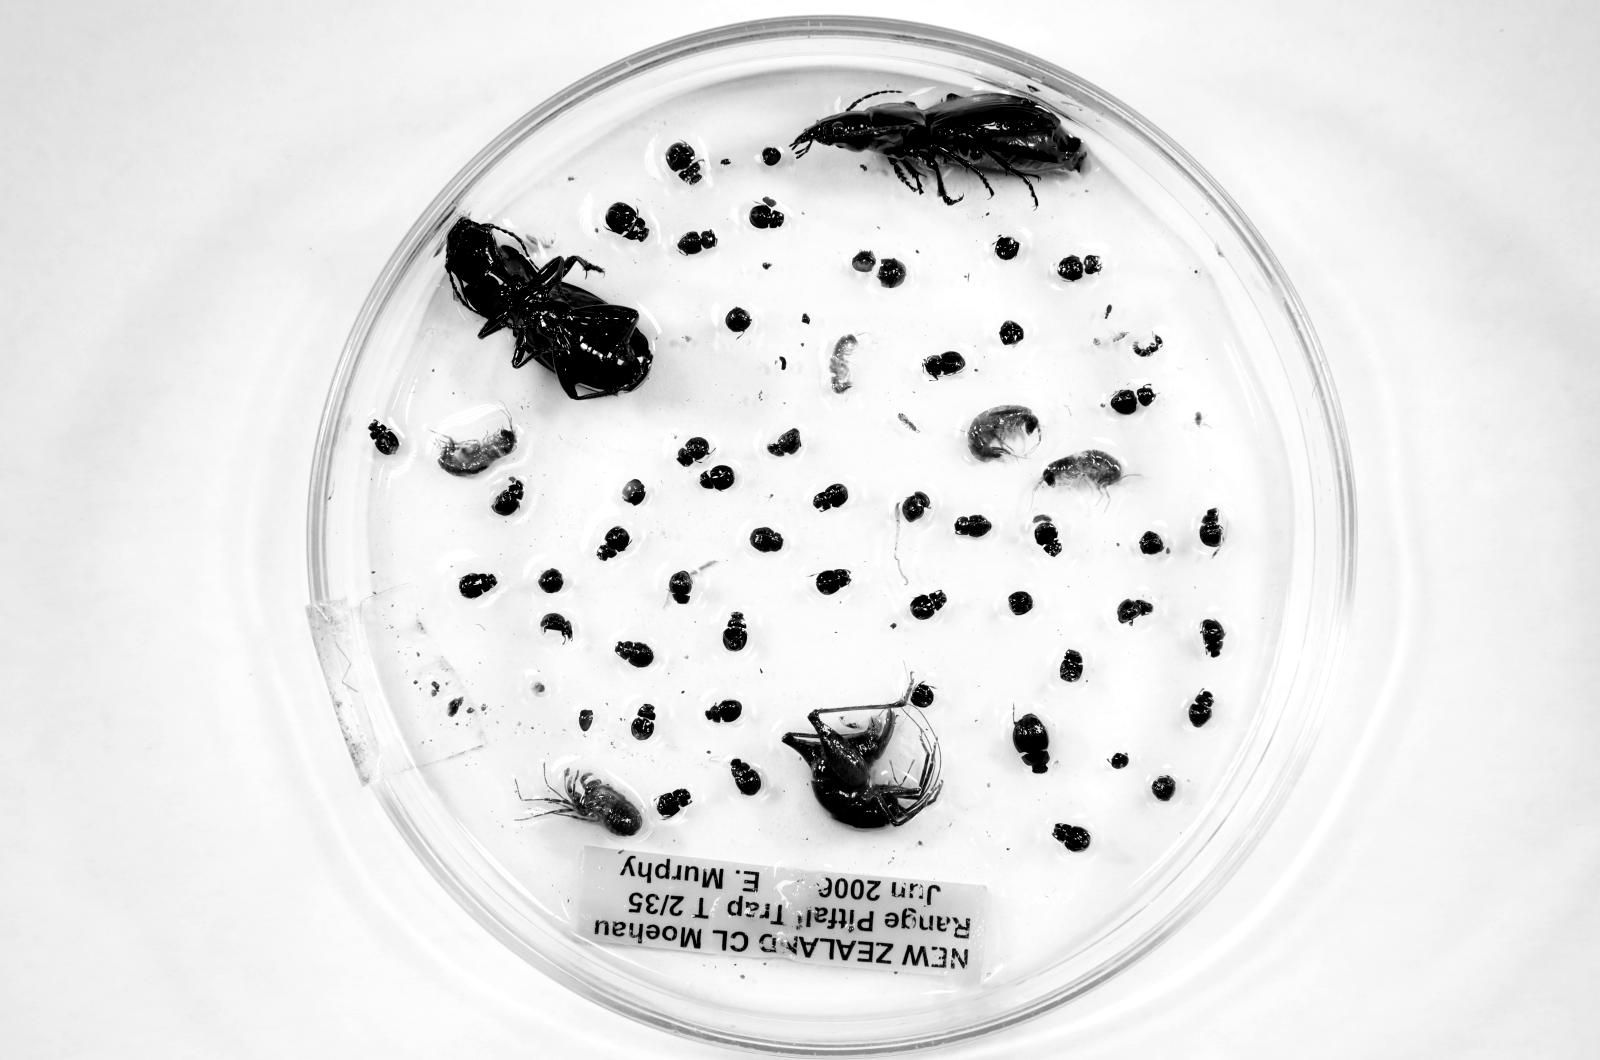amphipoda: (969, 406, 1041, 461), (1041, 450, 1123, 497), (439, 428, 517, 476), (829, 334, 857, 394)
carabidae: (445, 218, 653, 400), (792, 92, 1087, 205)
coleoptera: (1012, 713, 1051, 774), (604, 202, 650, 241), (665, 141, 704, 186), (1110, 384, 1155, 415), (596, 526, 631, 561), (492, 478, 524, 516), (1057, 254, 1101, 282), (1034, 516, 1062, 557), (730, 758, 762, 795), (909, 589, 947, 620), (922, 351, 965, 379), (368, 420, 400, 455), (1052, 822, 1090, 852), (656, 788, 692, 819), (615, 640, 653, 668), (676, 230, 717, 256), (1199, 508, 1224, 549), (899, 491, 931, 523), (459, 573, 498, 599), (1187, 689, 1213, 728), (678, 437, 712, 466), (749, 201, 785, 228), (812, 484, 849, 511), (767, 428, 802, 457), (539, 613, 574, 641), (723, 612, 747, 651), (1200, 619, 1225, 658), (699, 465, 736, 491), (815, 569, 851, 595), (954, 513, 992, 538), (630, 703, 655, 741), (750, 526, 784, 552), (1118, 599, 1153, 623), (705, 699, 741, 723), (668, 570, 693, 605), (1060, 648, 1083, 683)
formicidae: (1133, 334, 1162, 357)
opiliones: (526, 770, 642, 836)
orthoptera: (783, 700, 940, 828)
